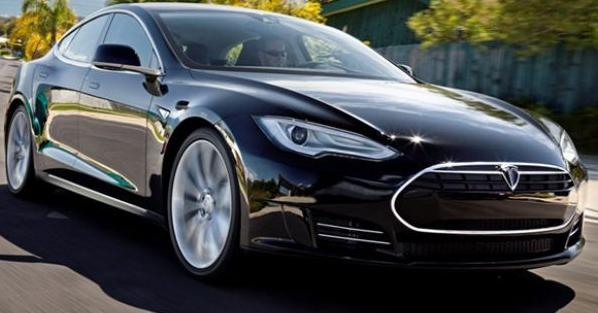front_view: (238, 88, 591, 270)
headlight: (254, 113, 408, 164)
side_glass: (54, 13, 161, 71)
